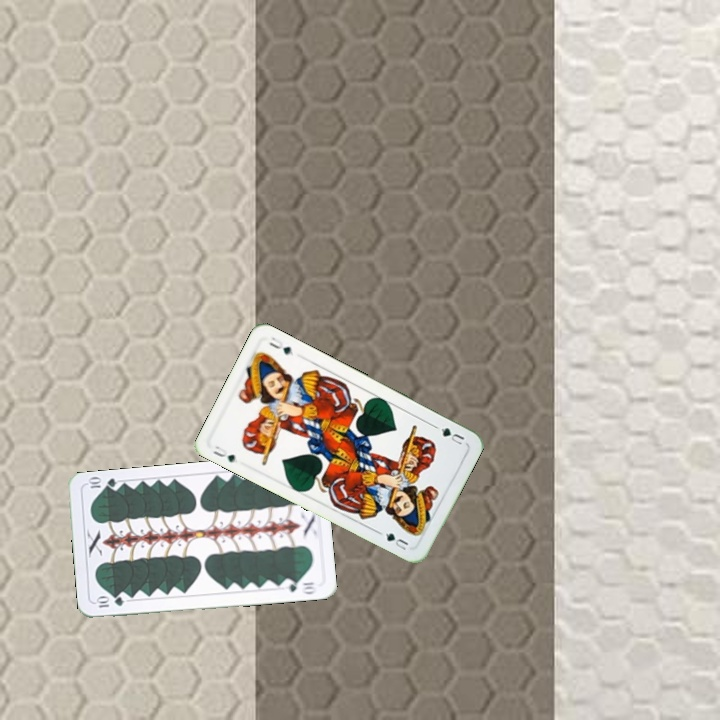G10: (92, 593, 127, 610)
GU: (437, 423, 467, 448), (209, 442, 238, 465)
